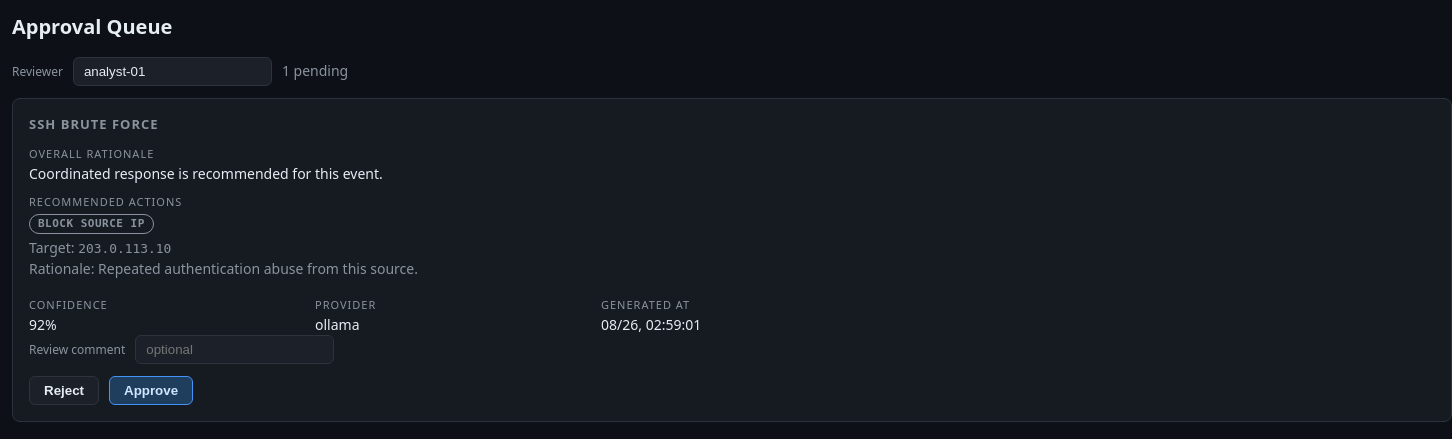
Scenario: ApprovalQueuePage › double-click never stacks a second POST (one decision per click)
Click the button "Approve": click(151, 391) [109,376,193,405]
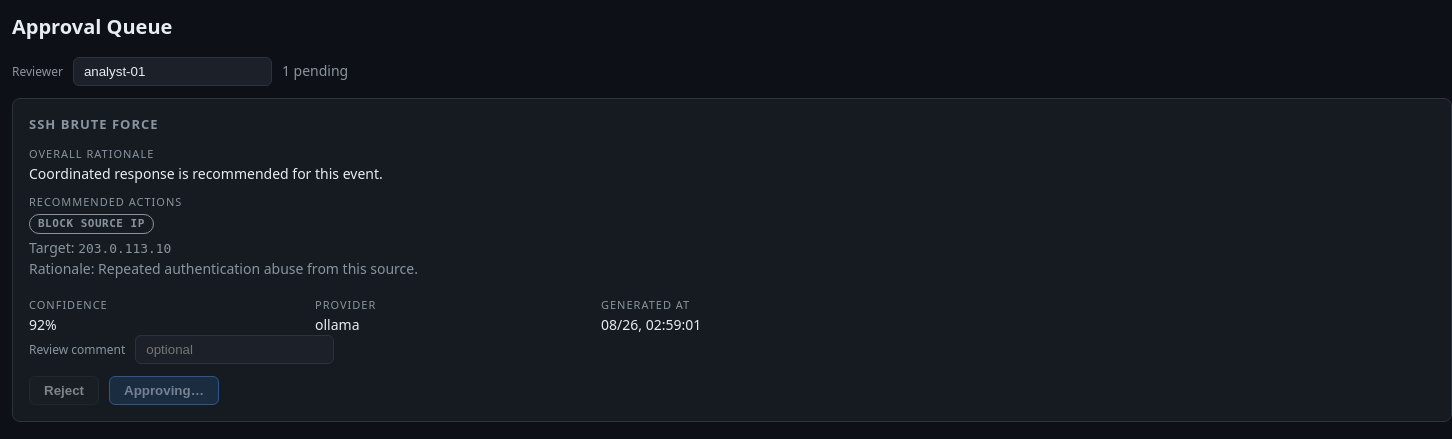
Click the button named "Approve": click(164, 391) [109,376,219,405]
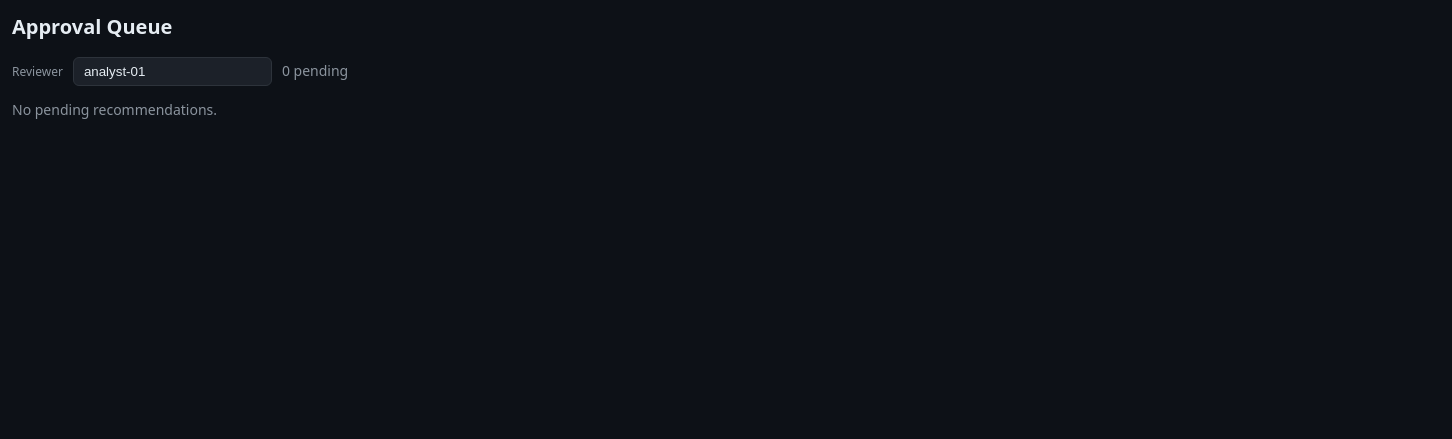
Check: the text "No pending recommendations." is shown, box [12,100,217,119]
